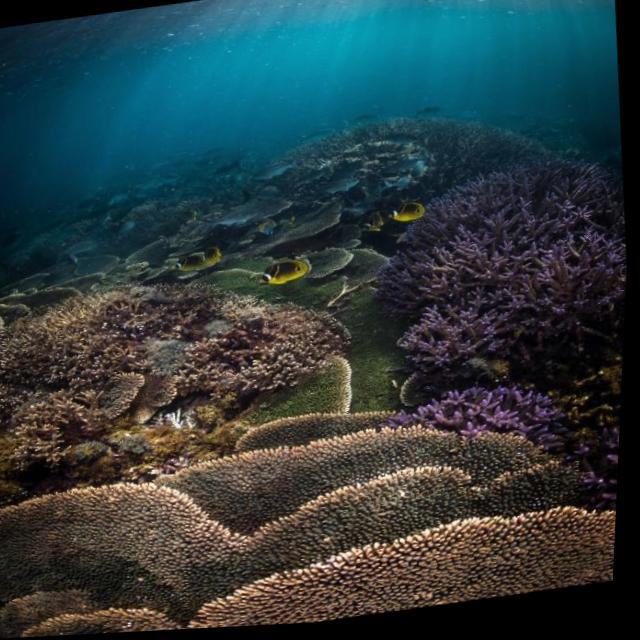Healthy Coral: (0, 378, 626, 640), (0, 273, 362, 477), (397, 176, 633, 393), (378, 370, 588, 476)
